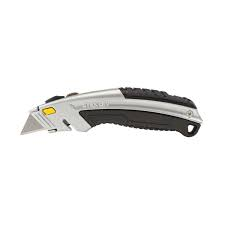knife: (13, 77, 204, 154)
